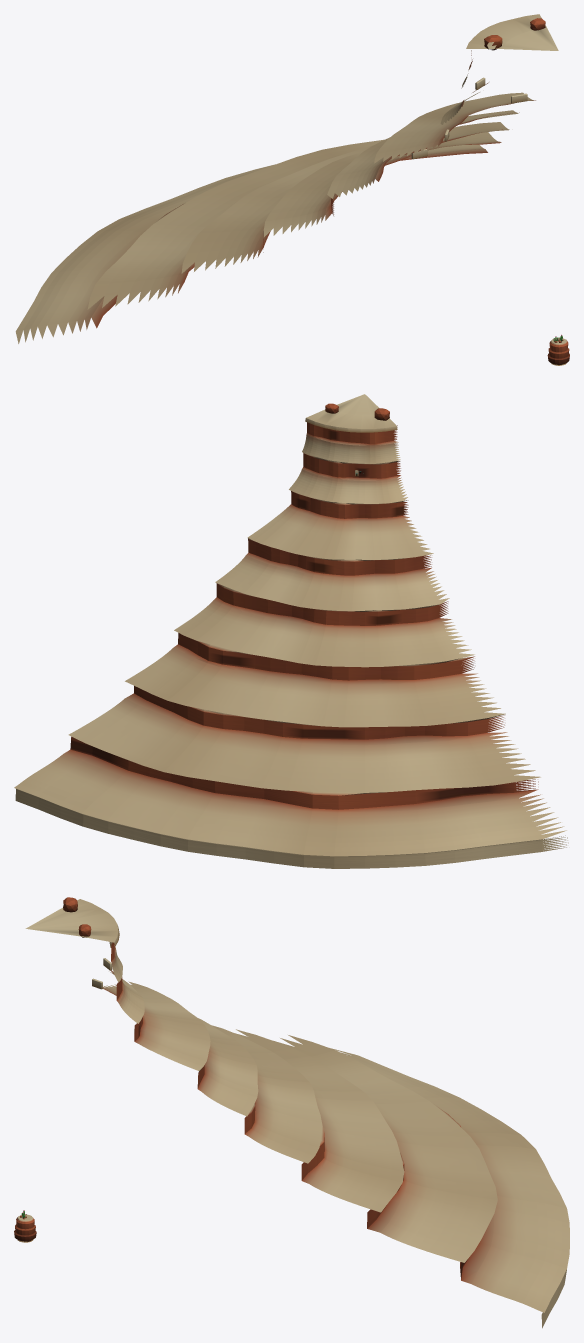
File: canyon-s1-AsDtBJUo.glb
3 views of the same model, one above another, from view 1: azimuth 30°, elevation 25°; view 2: azimuth 150°, elevation 25°; view 3: azimuth 270°, elevation 25° (orthographic). The views are drawn at different scales.
Parts seen in each view (by area): view 1: sc_landmark_1, sc_butte_1; view 2: sc_landmark_1; view 3: sc_landmark_1.
Part boxes in pixels (x1=…): sc_landmark_1: x1=15, y1=14, x2=558, y2=343; sc_butte_1: x1=547, y1=334, x2=569, y2=364; sc_landmark_1: x1=14, y1=394, x2=568, y2=868; sc_landmark_1: x1=25, y1=897, x2=569, y2=1328.
Bounding box in the file's own units: 493 × 290 × 436.
